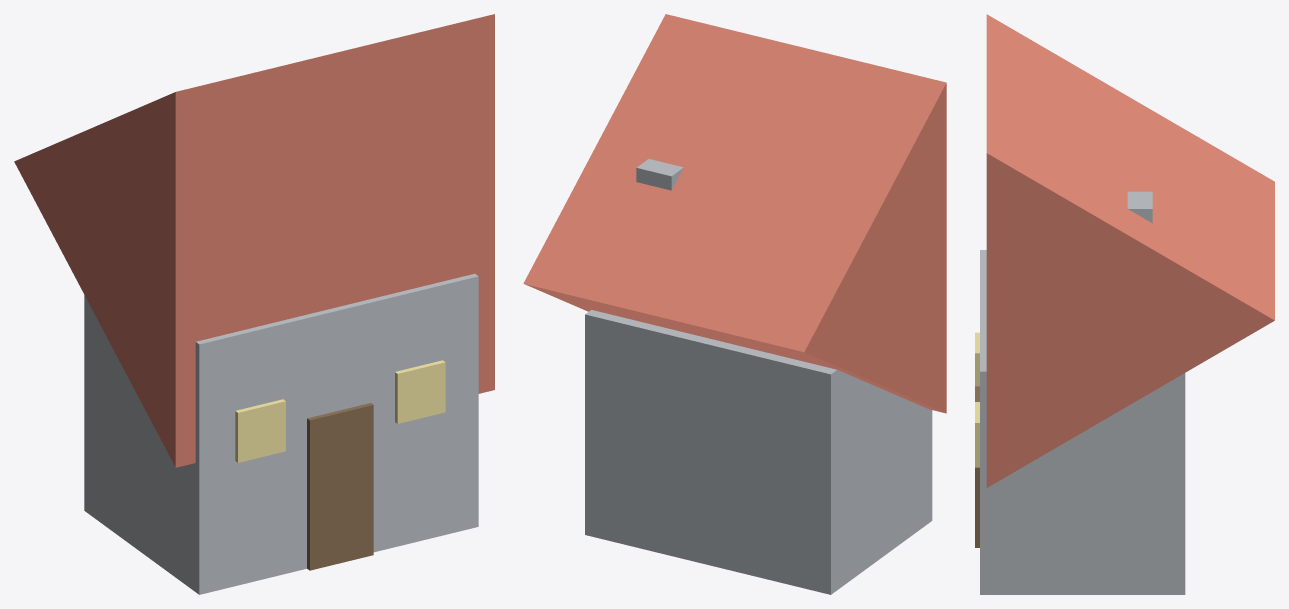
File: house_cottage.glb
The picture shows the model from 3 angles, left to right: view 1: azimuth 30°, elevation 25°; view 2: azimuth 150°, elevation 25°; view 3: azimuth 270°, elevation 25°; orthographic projection. The views are drawn at different scales.
Visible parts, largest first — view 1: Cylinder, Cube, Cube.002, Cube.004, Cube.003; view 2: Cylinder, Cube, Cube.001; view 3: Cylinder, Cube, Cube.001, Cube.002.
Boxes of the visible parts, x1,y1,x2,y2 form: Cylinder: [14, 14, 494, 467]; Cube: [84, 273, 478, 594]; Cube.002: [307, 403, 373, 570]; Cube.004: [395, 360, 445, 423]; Cube.003: [235, 399, 285, 462]; Cylinder: [523, 14, 946, 413]; Cube: [585, 310, 932, 594]; Cube.001: [636, 159, 683, 190]; Cylinder: [986, 14, 1274, 487]; Cube: [980, 250, 1185, 594]; Cube.001: [1127, 191, 1152, 223]; Cube.002: [975, 386, 979, 547].
Size of the model in its own units: 4 by 6.05 by 3.65.
